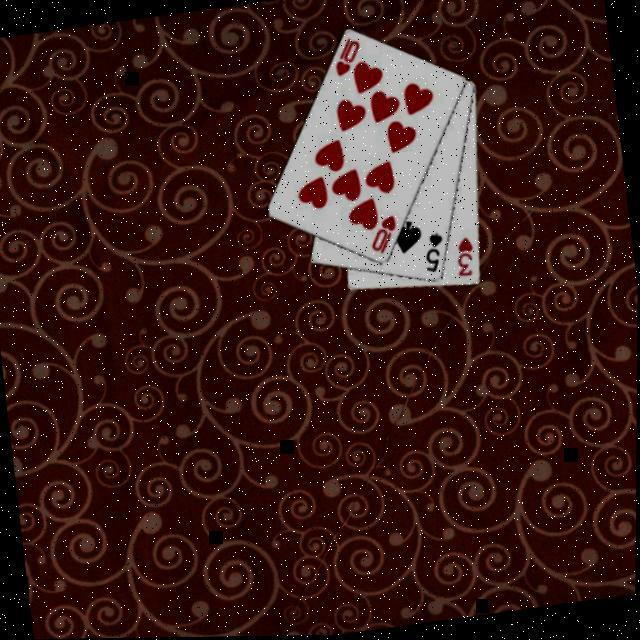10H: (329, 34, 366, 80), (366, 212, 402, 258)
3H: (452, 234, 480, 280)
5S: (420, 230, 450, 276)
